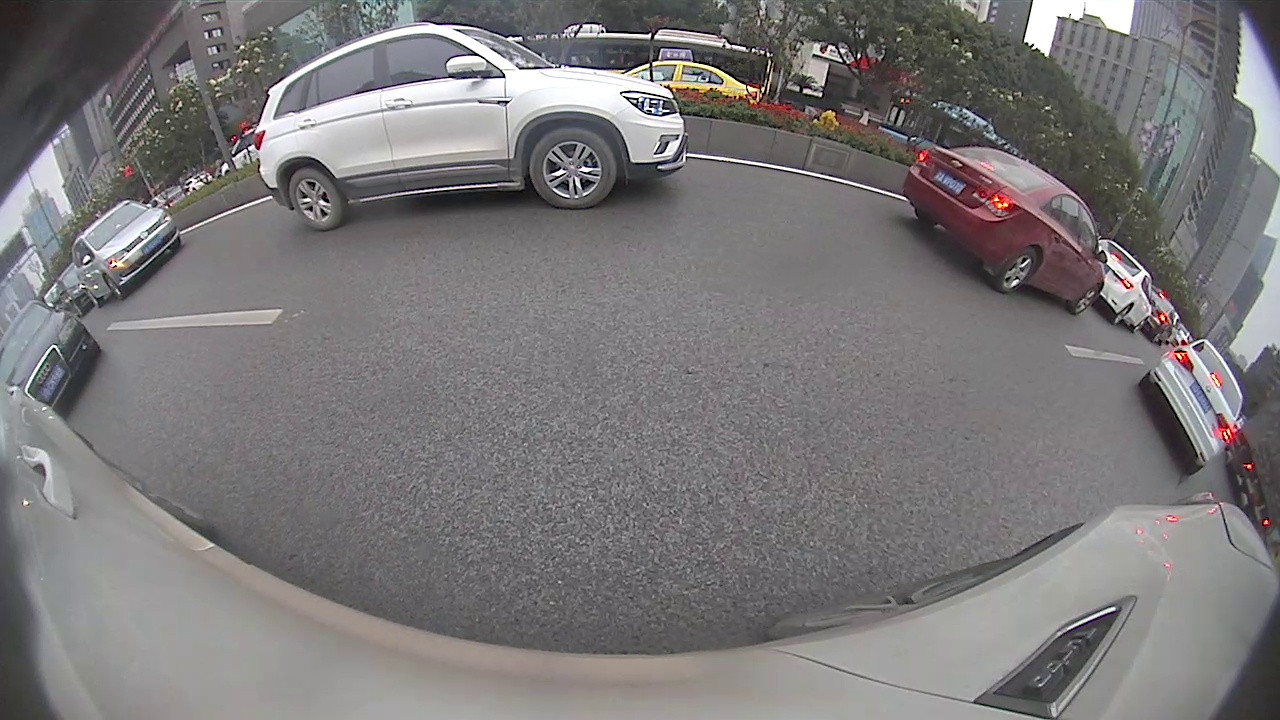car: (253, 22, 692, 233), (902, 143, 1109, 317), (1135, 337, 1247, 476), (71, 199, 182, 309), (1, 297, 103, 414), (1099, 237, 1159, 333)
front: (531, 132, 618, 208), (1073, 286, 1101, 315), (102, 272, 124, 302)
rear: (289, 170, 341, 231), (995, 247, 1040, 290)
